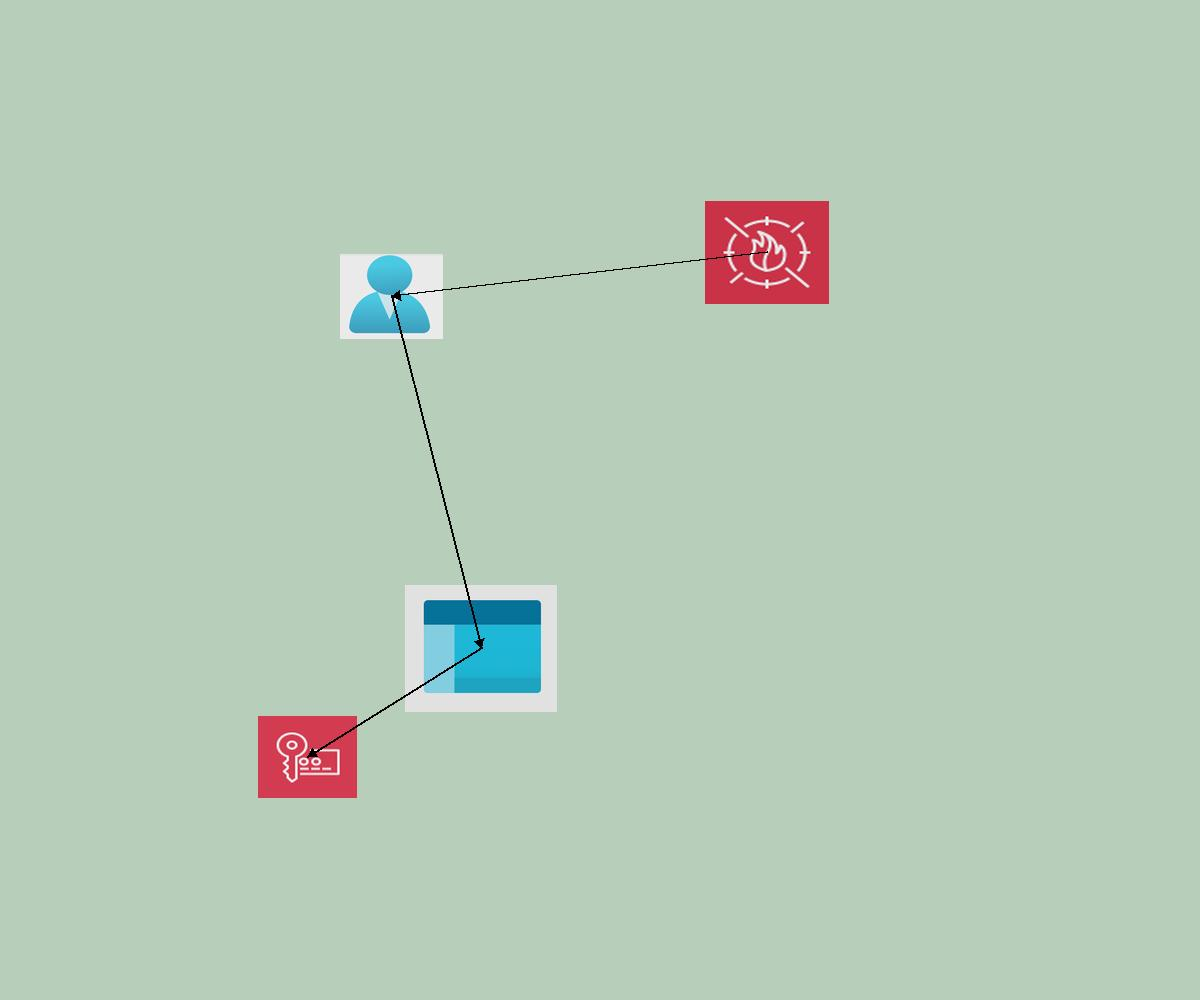AWS-Key-Management-Service: (258, 716, 357, 798)
AWS-WAF: (705, 201, 829, 304)
Azure_management-portal: (405, 585, 557, 712)
Azure_users: (340, 254, 443, 339)
